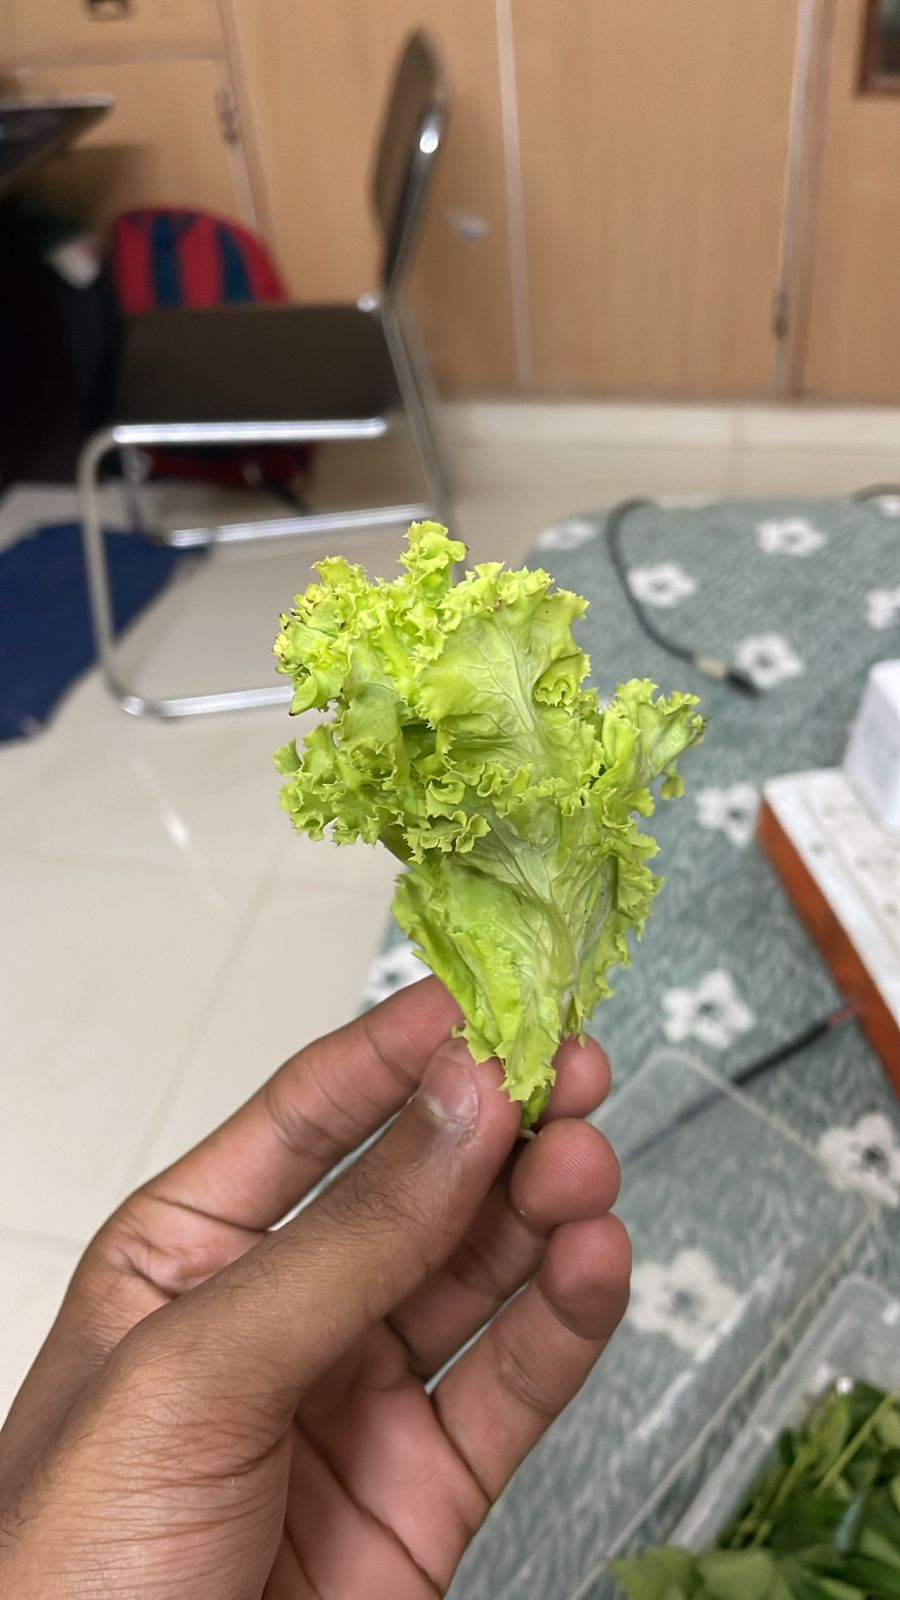wet: (273, 438, 665, 1082)
